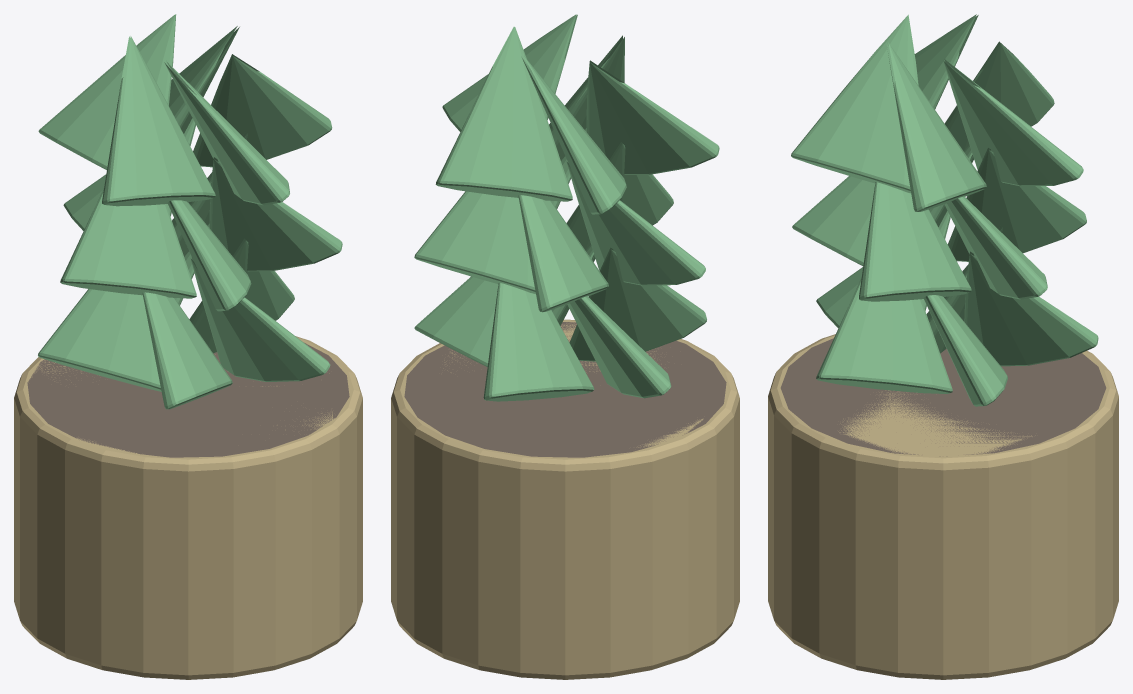
The model's file is office_storage___organization_asset_sheet_64.glb.
3 views of the same model, side by side, from view 1: azimuth 30°, elevation 25°; view 2: azimuth 150°, elevation 25°; view 3: azimuth 270°, elevation 25° (orthographic).
Visible parts, largest first — view 1: Cylinder; view 2: Cylinder; view 3: Cylinder.
Part boxes in pixels (x1,y1,x2,y2): Cylinder: (14, 14, 362, 679); Cylinder: (391, 14, 739, 679); Cylinder: (768, 14, 1118, 679).
Size of the model in its own units: 0.546 by 0.9875 by 0.546.
